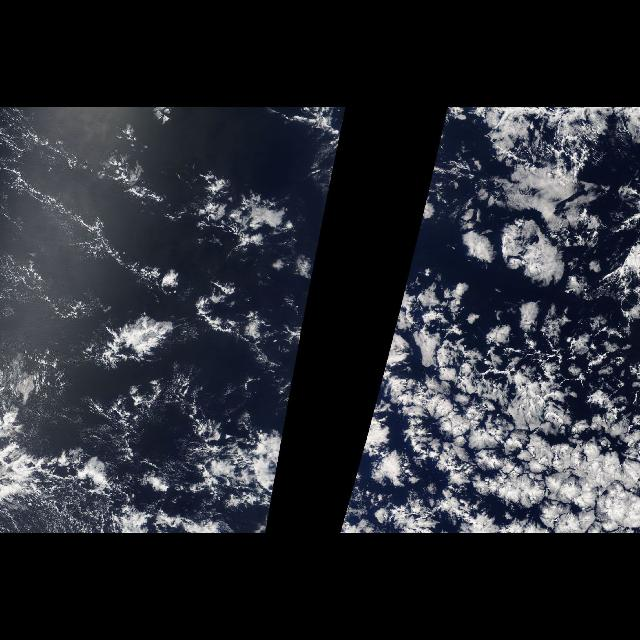Flower: (339, 122, 639, 534), (278, 122, 344, 470)
